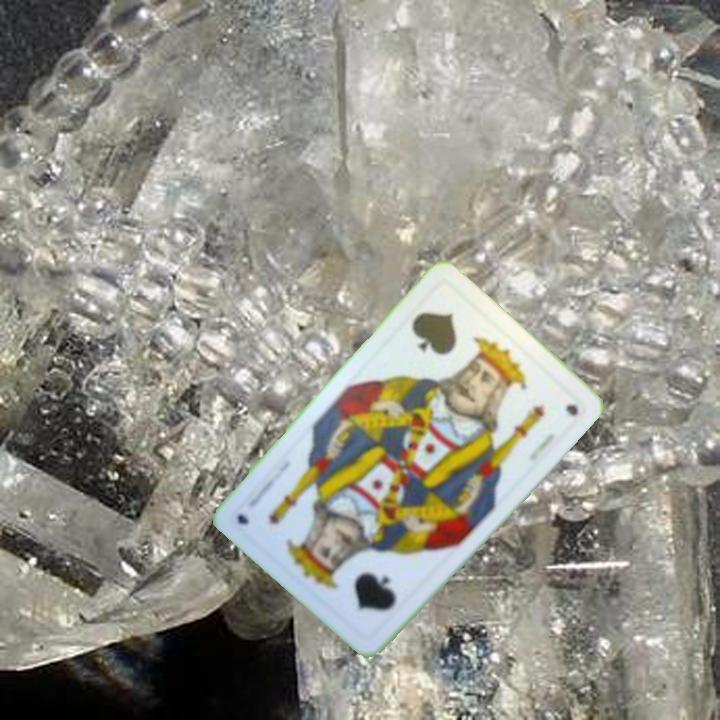s_k.png: (386, 278, 516, 406), (300, 517, 429, 645)
